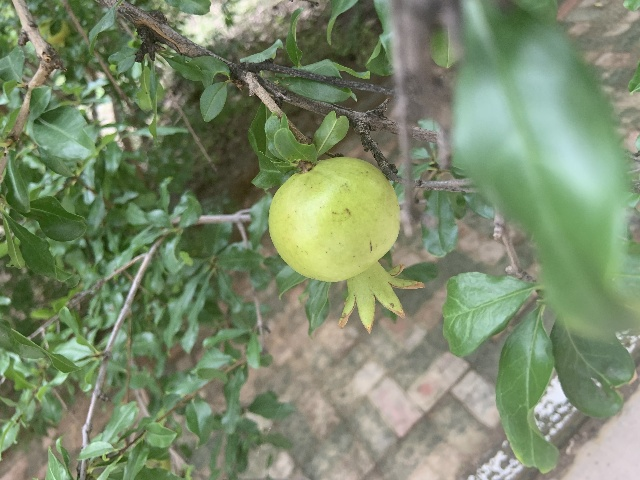mid-growth: (268, 156, 425, 333)
